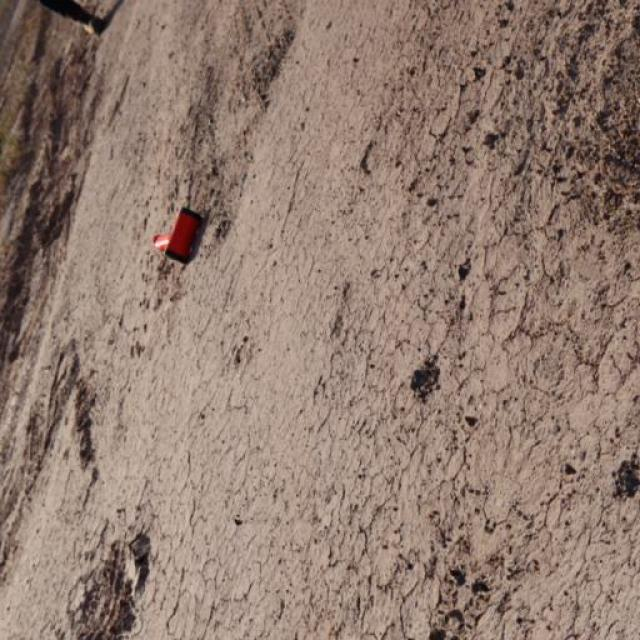mallet: (151, 205, 201, 264)
